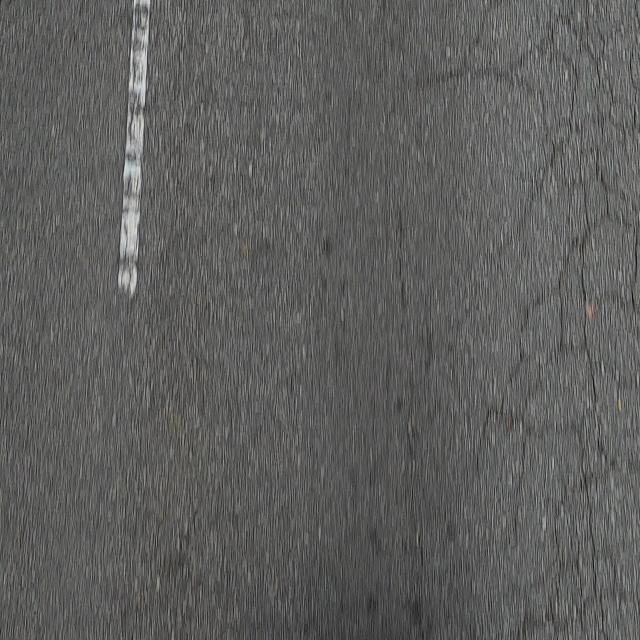Retak-Buaya: (479, 1, 640, 640)
